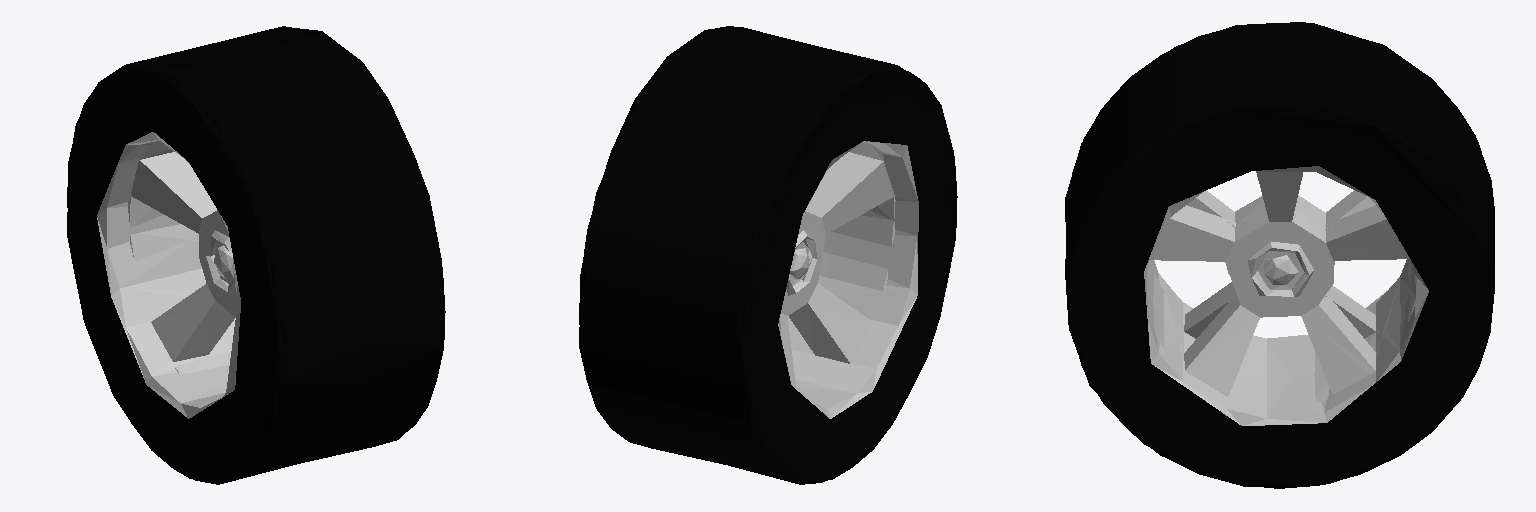
File: Z40_wheel.obj
The picture shows the model from 3 angles: view 1: azimuth 30°, elevation 25°; view 2: azimuth 150°, elevation 25°; view 3: azimuth 270°, elevation 25°; orthographic projection.
Visible parts, largest first — view 1: Circle.001; view 2: Circle.001; view 3: Circle.001.
Boxes of the visible parts, x1=… form: Circle.001: x1=67, y1=26, x2=445, y2=484; Circle.001: x1=579, y1=26, x2=957, y2=484; Circle.001: x1=1065, y1=22, x2=1494, y2=488.
Bounding box in the file's own units: 0.4837 × 1.05 × 1.05.